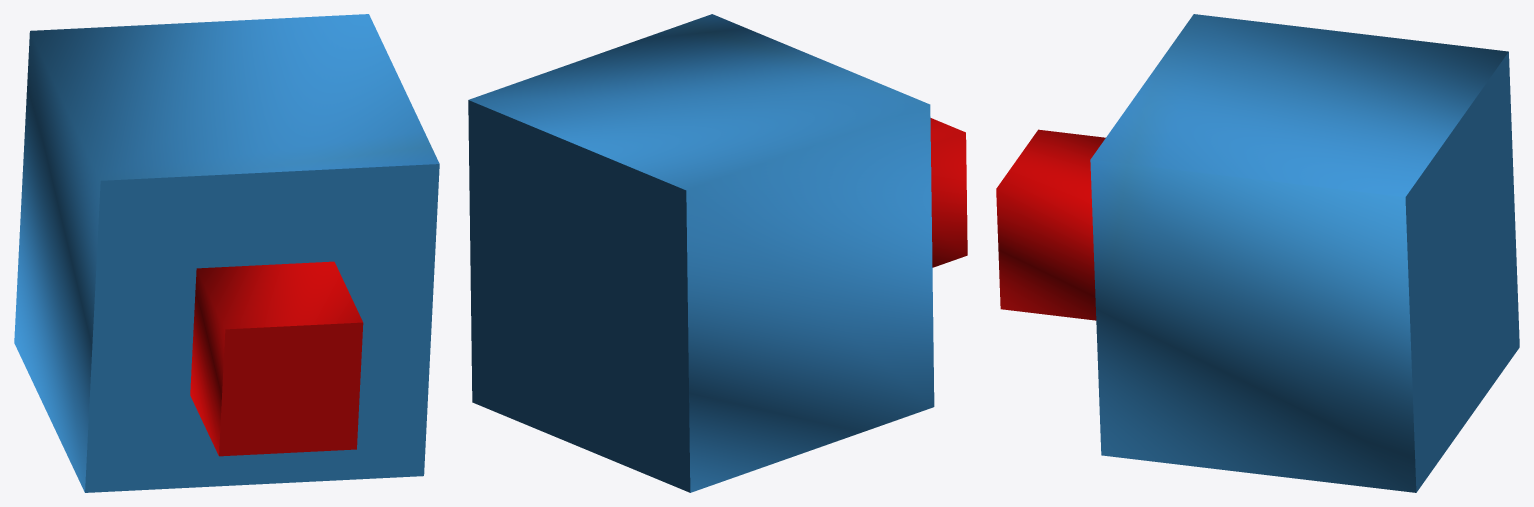
Rendered from button.glb.
3 renders of one model, left to right at view 1: azimuth 30°, elevation 25°; view 2: azimuth 150°, elevation 25°; view 3: azimuth 270°, elevation 25°, orthographic. The views are drawn at different scales.
Visible parts, largest first — view 1: button; view 2: button; view 3: button.
Part boxes in pixels (x1=…): button: x1=14, y1=14, x2=439, y2=492; button: x1=468, y1=14, x2=967, y2=492; button: x1=996, y1=14, x2=1519, y2=492.
Bounding box in the file's own units: 0.8055 × 0.6603 × 0.9815.
Materials: 3 (2 with a texture image).
